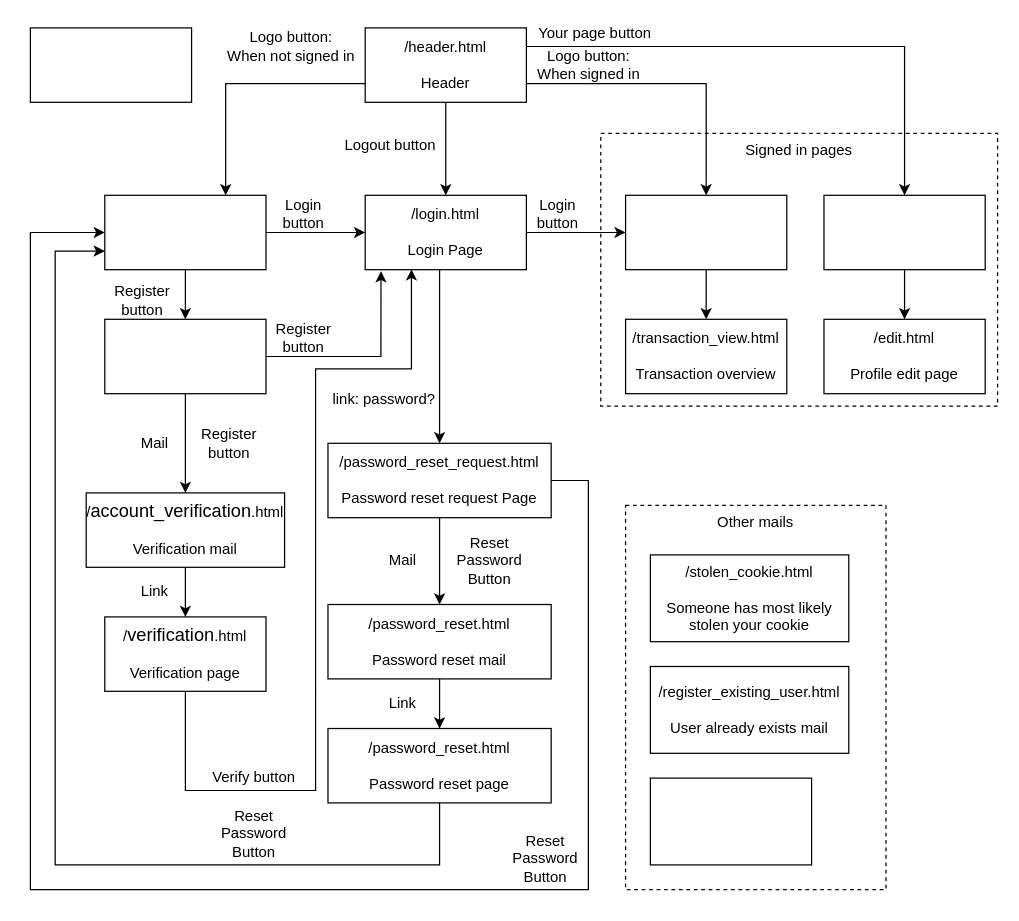
The diagram is 1019 pixels wide and 921 high, and some of its shapes have lost their labels. The box of each missing label's shape, as (x1, y1, x2, y2) in pixels:
/ Index: (104, 194, 266, 270)
/403.html Suspicious activity page: (29, 27, 192, 102)
/blocked_user.html User has been temporarily blocked mail: (649, 777, 812, 865)
/din_side.html Profile page: (823, 194, 985, 270)
/registration.html Registartion Page: (104, 318, 266, 394)
/startside.html Startpage: (624, 194, 787, 270)
